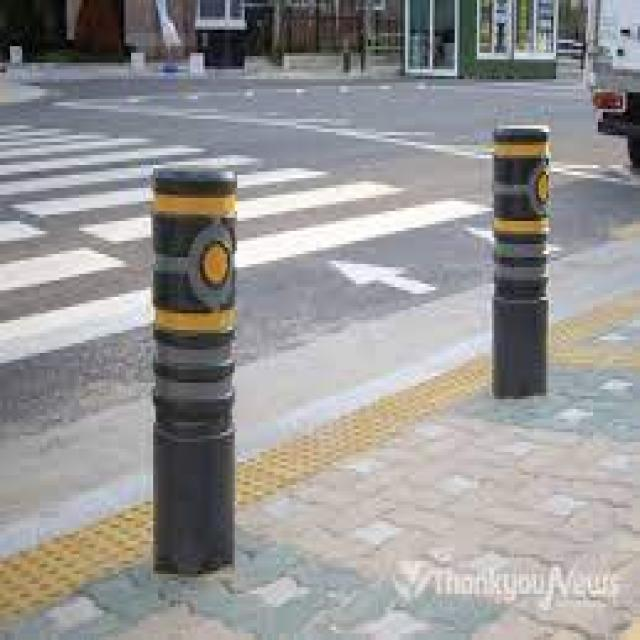bollard: (140, 156, 254, 582), (486, 114, 556, 403)
